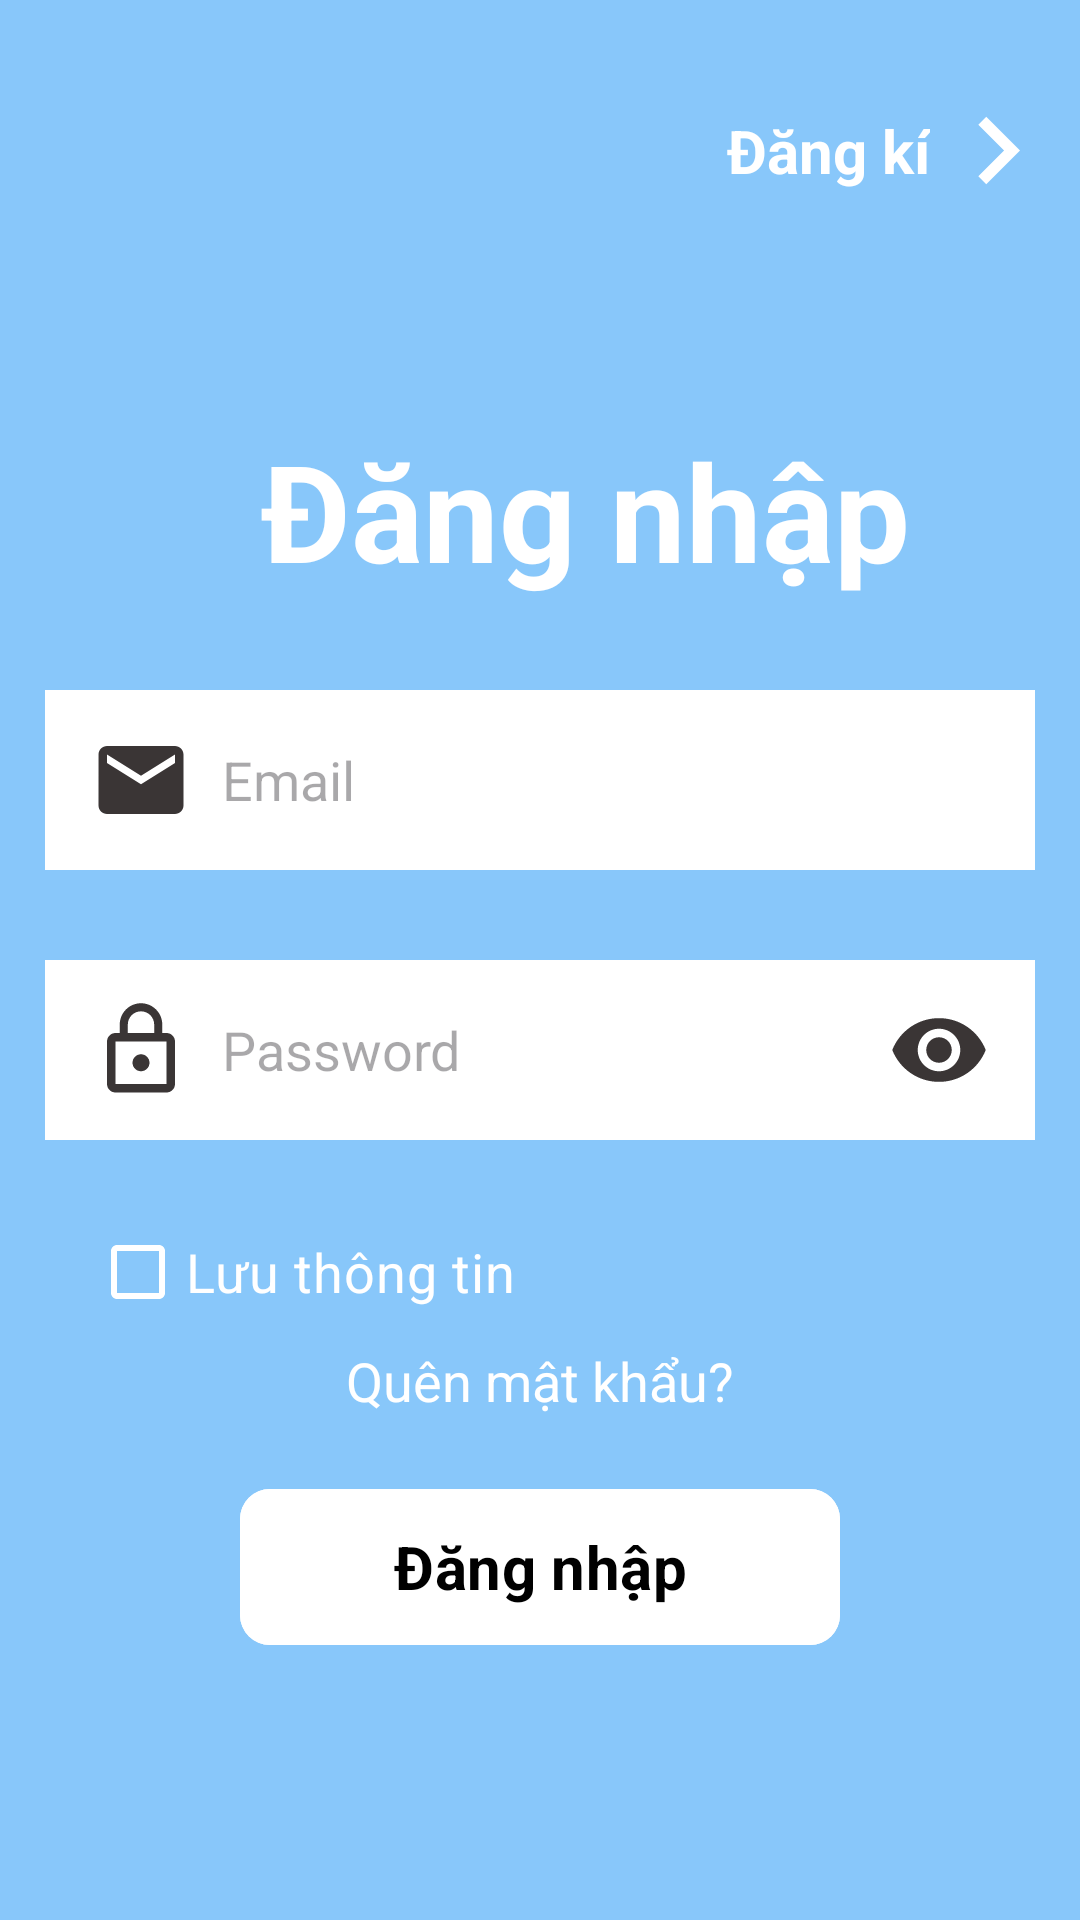

Named icons in this screenshot (1080px×1920px) and their bounding boxes, (x1, y1, x2, y2):
chevron right: (978, 117, 1020, 184)
